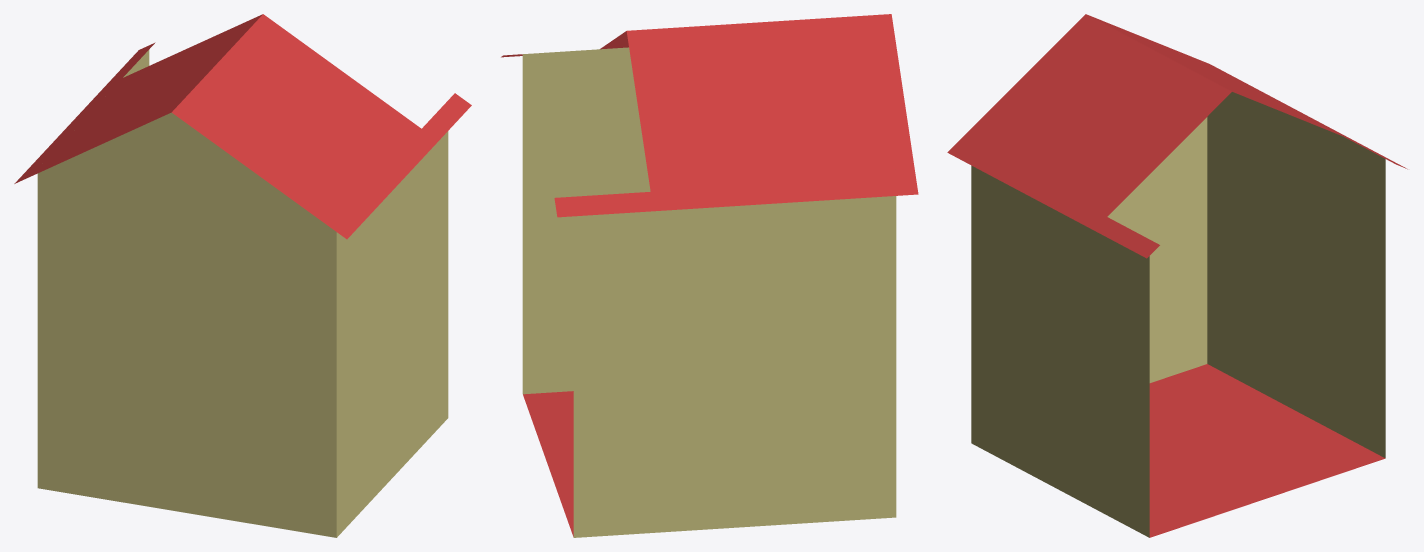
The picture shows the model from 3 angles, left to right: view 1: azimuth 30°, elevation 25°; view 2: azimuth 150°, elevation 25°; view 3: azimuth 270°, elevation 25°; orthographic projection. The views are drawn at different scales.
Size of the model in its own units: 13.37 by 13.45 by 12.24.
